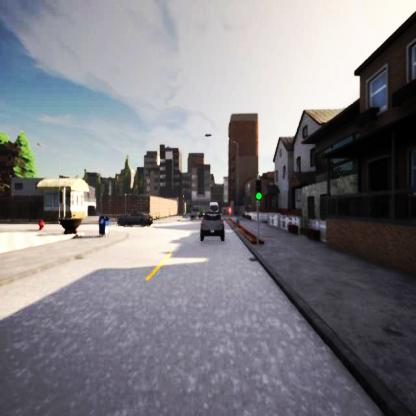vehicle: (199, 213, 223, 241), (117, 212, 152, 227)
